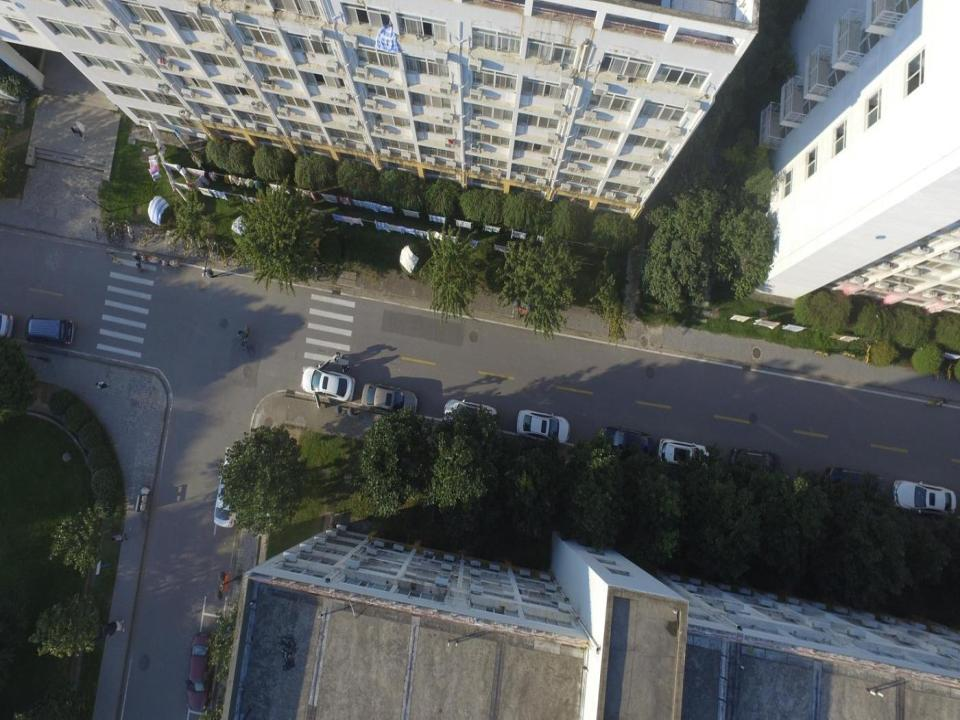car: (302, 358, 355, 410), (892, 478, 957, 512), (824, 465, 886, 499), (516, 408, 572, 444), (212, 457, 239, 529), (442, 398, 496, 432), (361, 384, 418, 415), (657, 437, 709, 470), (598, 427, 655, 456), (729, 448, 784, 476)
van: (185, 630, 212, 712), (26, 315, 75, 347)
